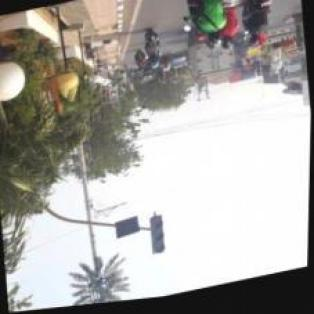Semaforo Verde: (150, 217, 168, 260)
